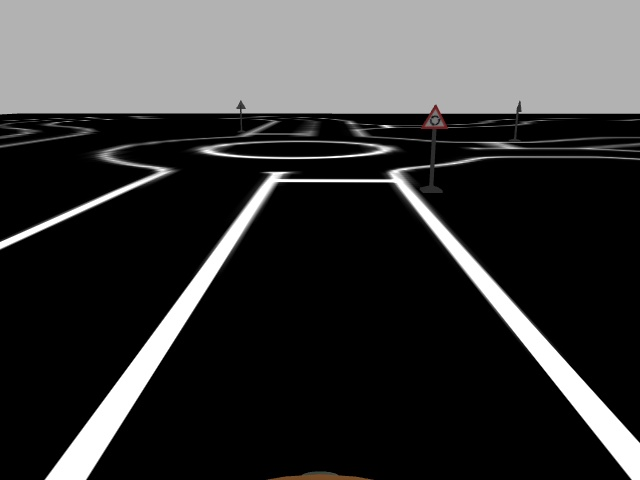roundabout: (420, 103, 448, 129)
